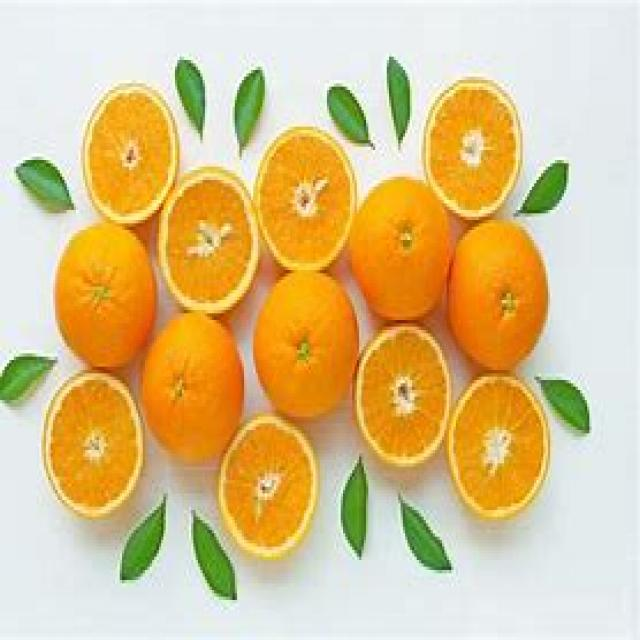Orange: (448, 373, 554, 521), (252, 268, 352, 421), (451, 221, 550, 373), (42, 370, 140, 516), (257, 126, 354, 266), (53, 222, 151, 360), (147, 312, 235, 459), (354, 322, 445, 464), (424, 78, 520, 211), (217, 431, 319, 554), (81, 82, 173, 214), (164, 170, 252, 308), (351, 176, 439, 314)
